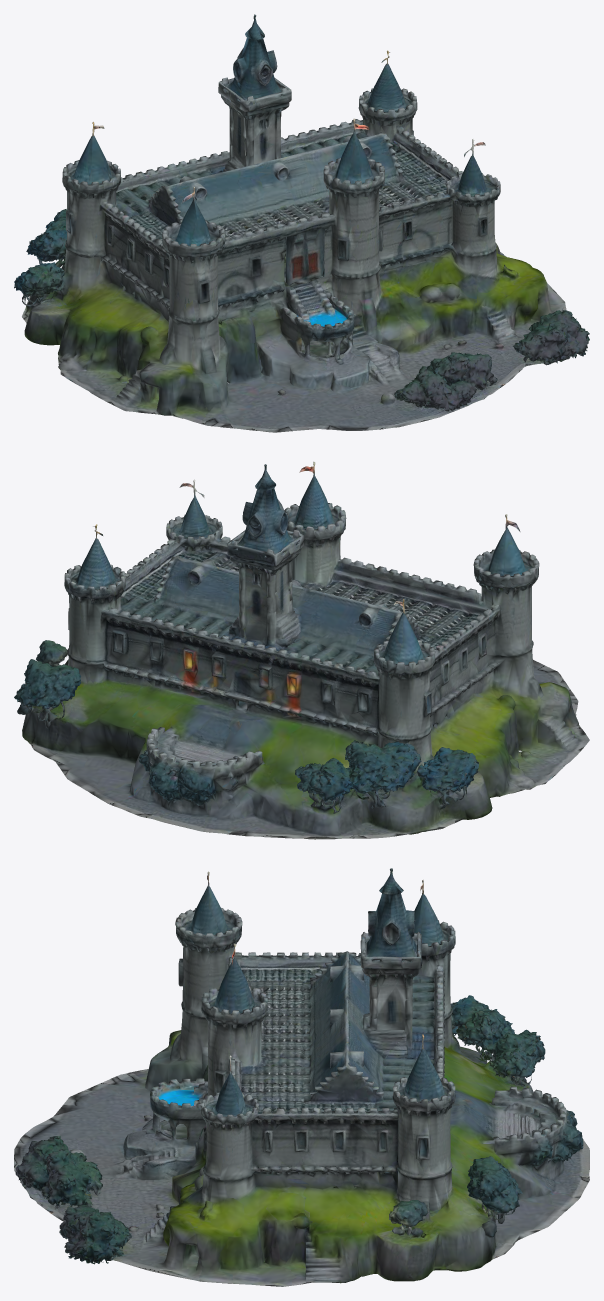
Rendered from castle.glb.
3 views of the same model, one above another, from view 1: azimuth 30°, elevation 25°; view 2: azimuth 150°, elevation 25°; view 3: azimuth 270°, elevation 25° (orthographic). The views are drawn at different scales.
Bounding box in the file's own units: 1.89 × 1.1 × 1.9.
Materials: 1 (1 with a texture image).
